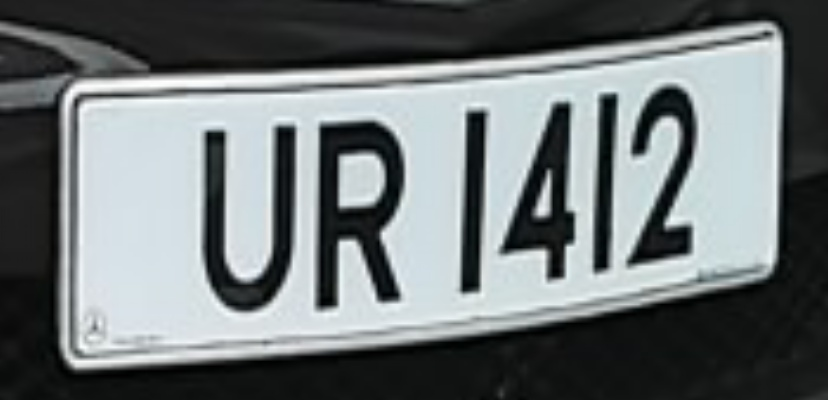1: (431, 86, 513, 328), (574, 66, 635, 299)
2: (617, 67, 713, 290)
4: (487, 72, 591, 316)
R: (306, 106, 437, 334)
U: (183, 109, 316, 334)
